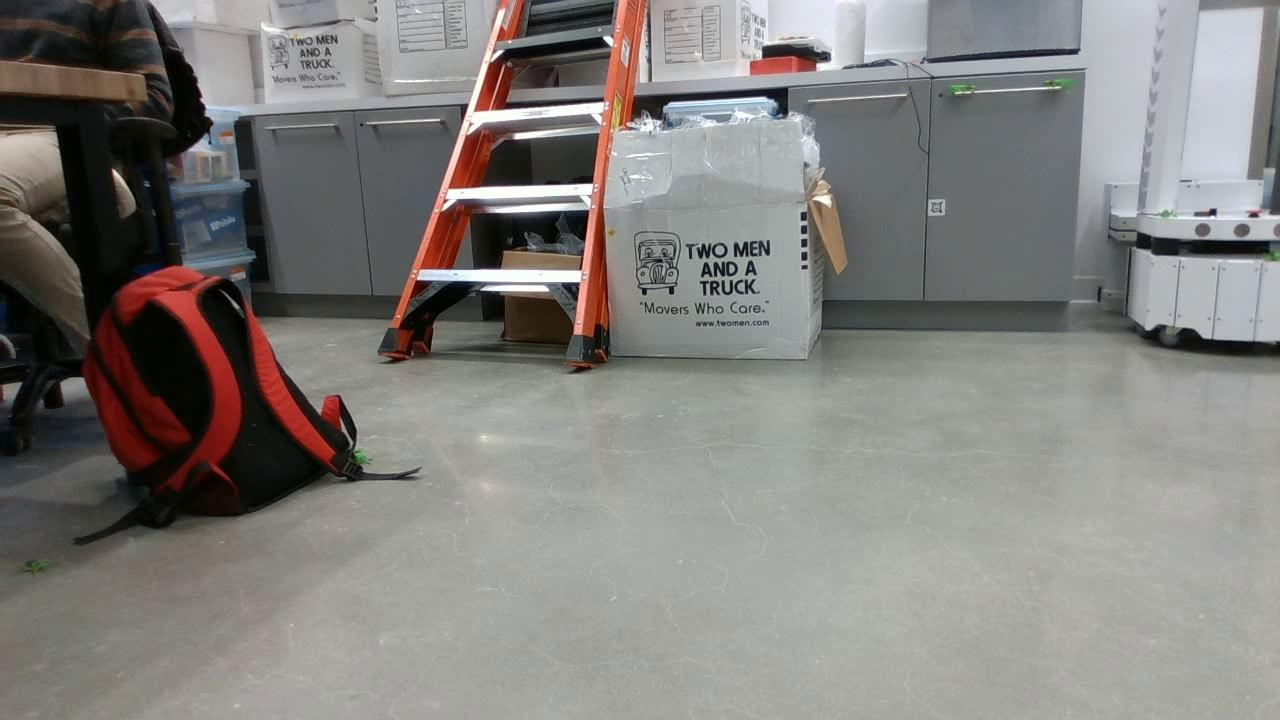grasshopper: (347, 445, 372, 469), (948, 85, 978, 96), (1045, 80, 1074, 89)
